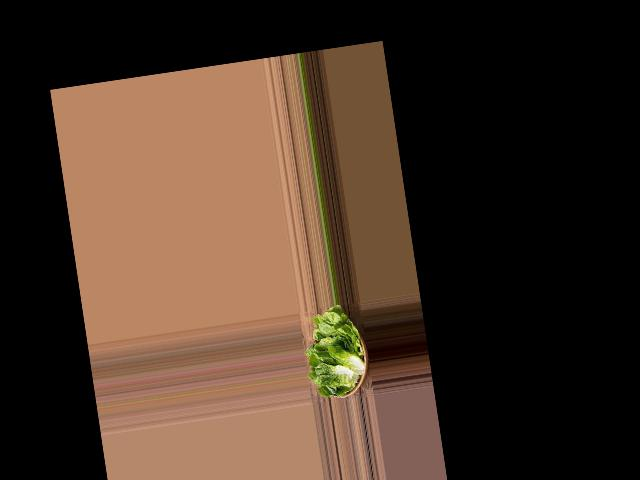lettuce: (301, 303, 373, 405)
